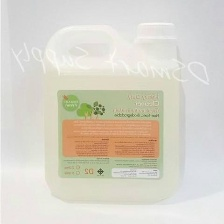cleaning_solution: (40, 19, 188, 205)
